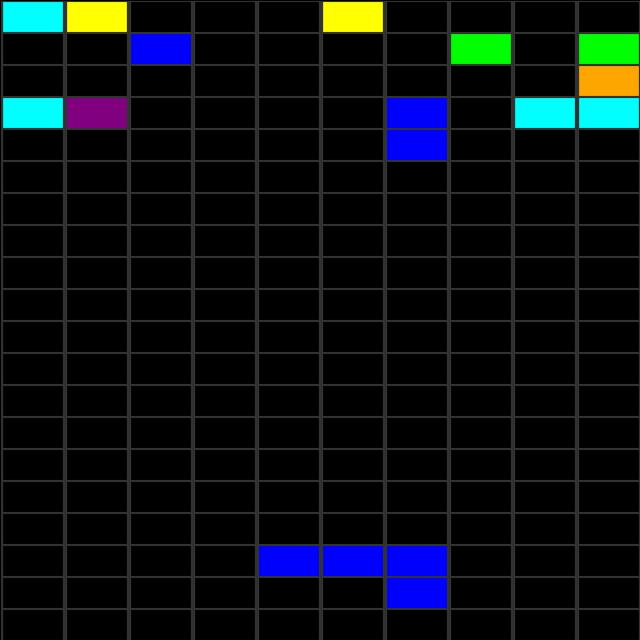Tetrimino_S: (258, 543, 450, 607)
